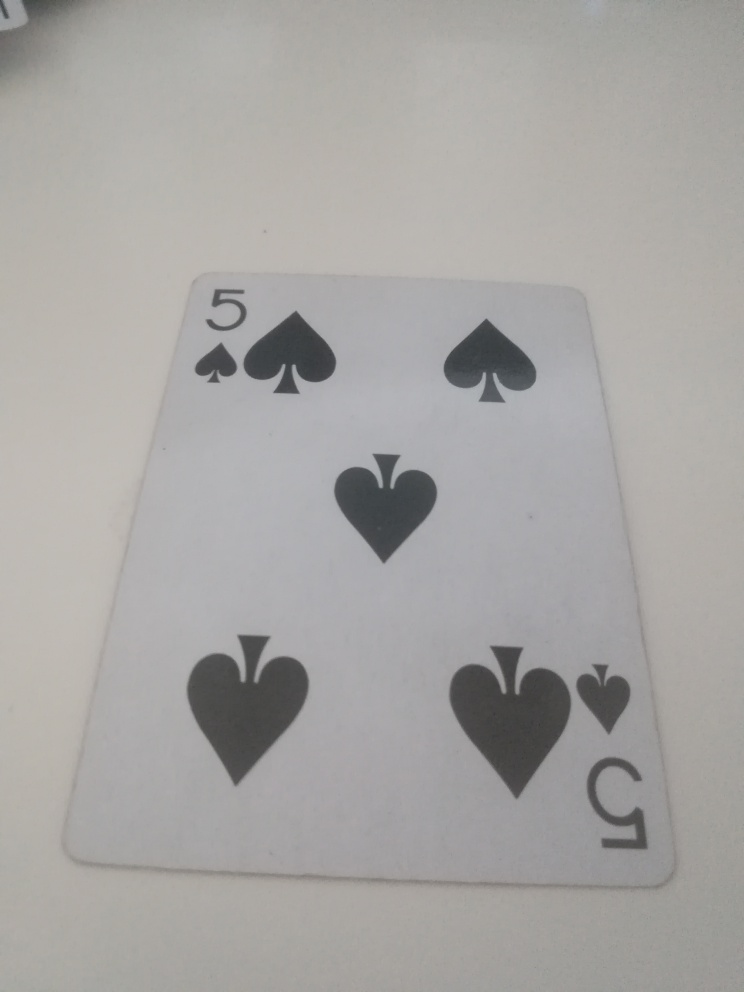5S: (187, 282, 253, 390)
